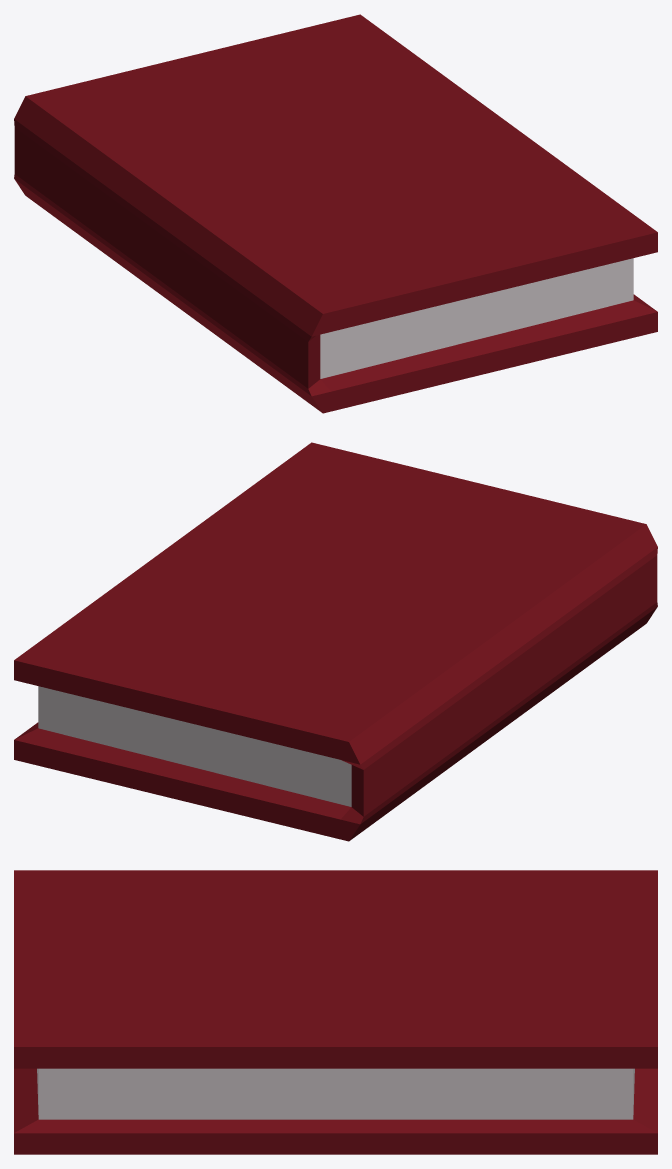
The model's file is Item_Book.fbx.
3 renders of one model, top to bottom at view 1: azimuth 30°, elevation 25°; view 2: azimuth 150°, elevation 25°; view 3: azimuth 270°, elevation 25°, orthographic. The views are drawn at different scales.
Visible parts, largest first — view 1: Cube; view 2: Cube; view 3: Cube.
Boxes of the visible parts, left/top/right/bottom form: Cube: left=14, top=14, right=657, bottom=413; Cube: left=14, top=442, right=657, bottom=841; Cube: left=14, top=870, right=657, bottom=1154.
Bounding box in the file's own units: 166 × 45.29 × 245.
